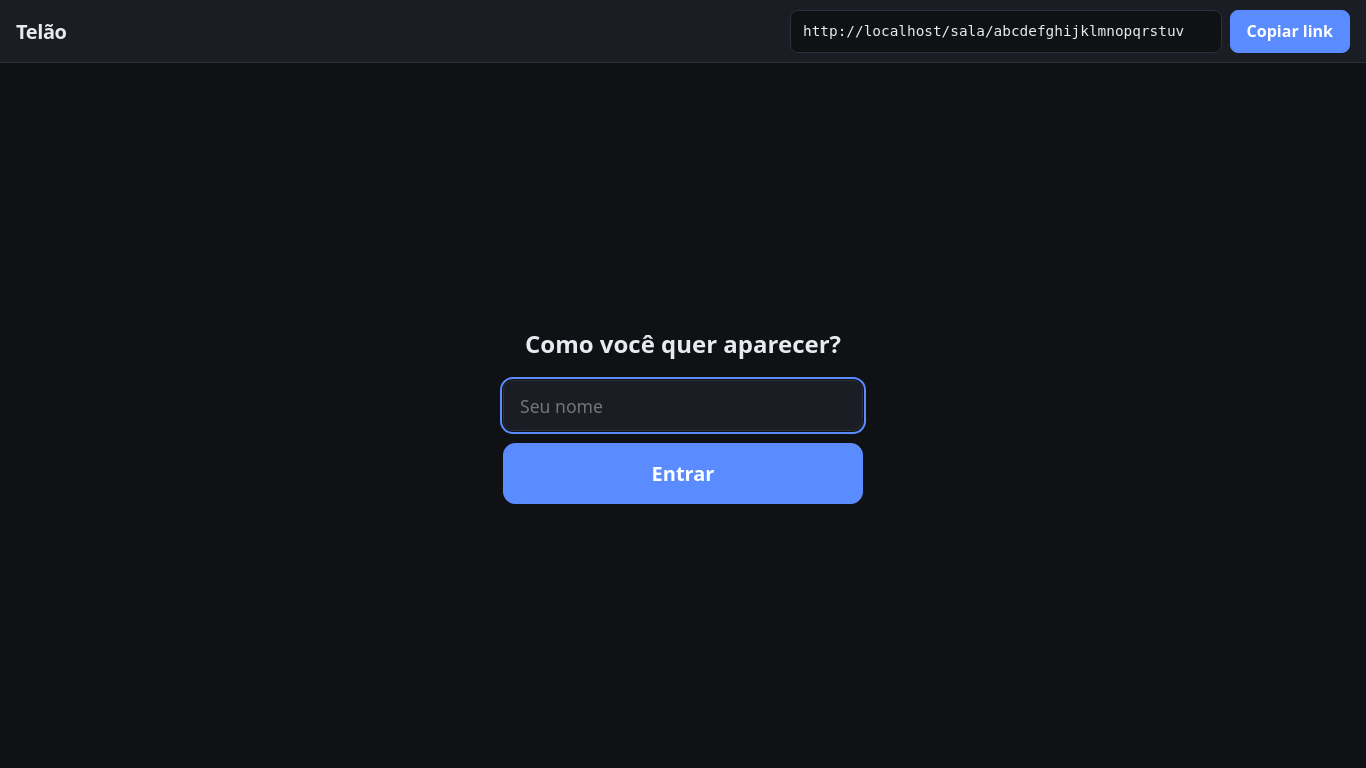
Test: Conversar por voz › entra com o microfone desligado, sem pedir permissão
The image size is (1366, 768).
Type "Ana" into the field labelled "Seu nome" at (683, 406), box [503, 380, 863, 432]
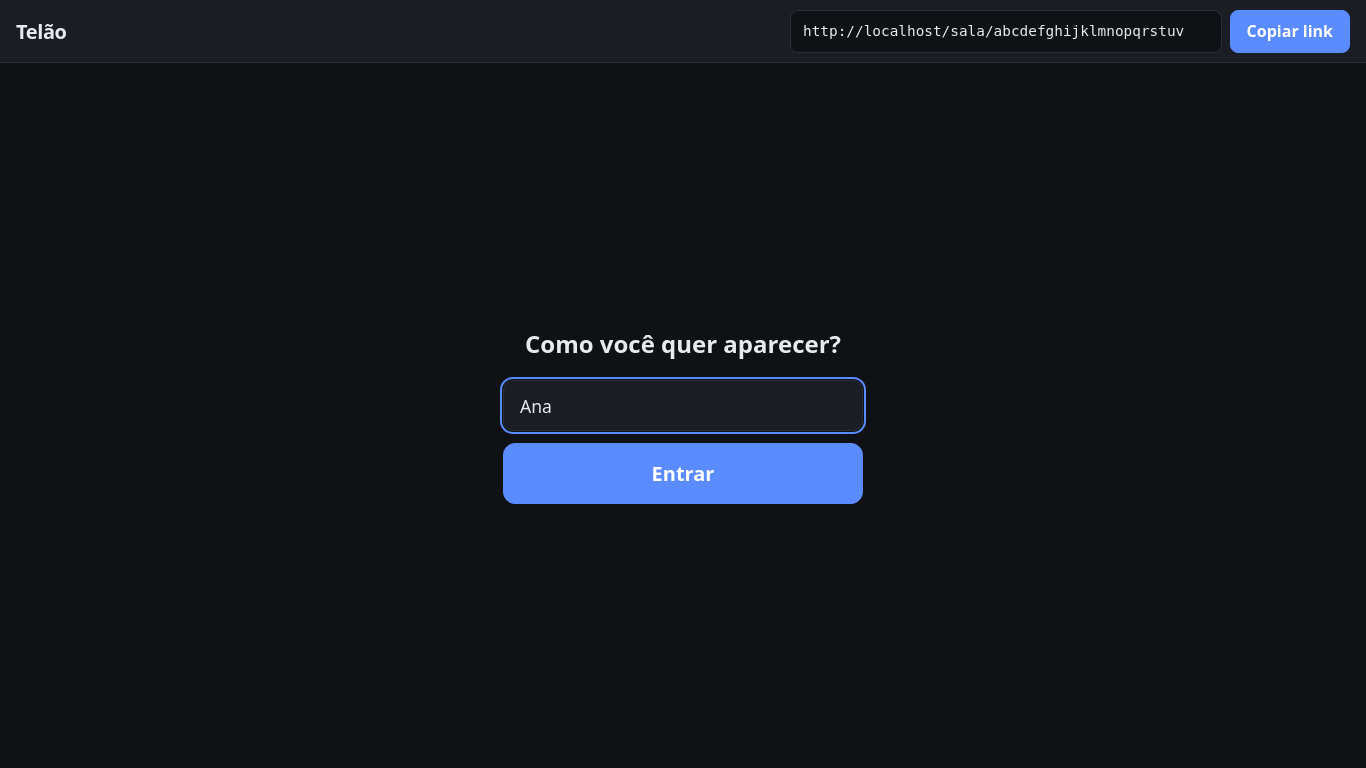
Click the button "Entrar" at (683, 474), box [503, 444, 863, 504]
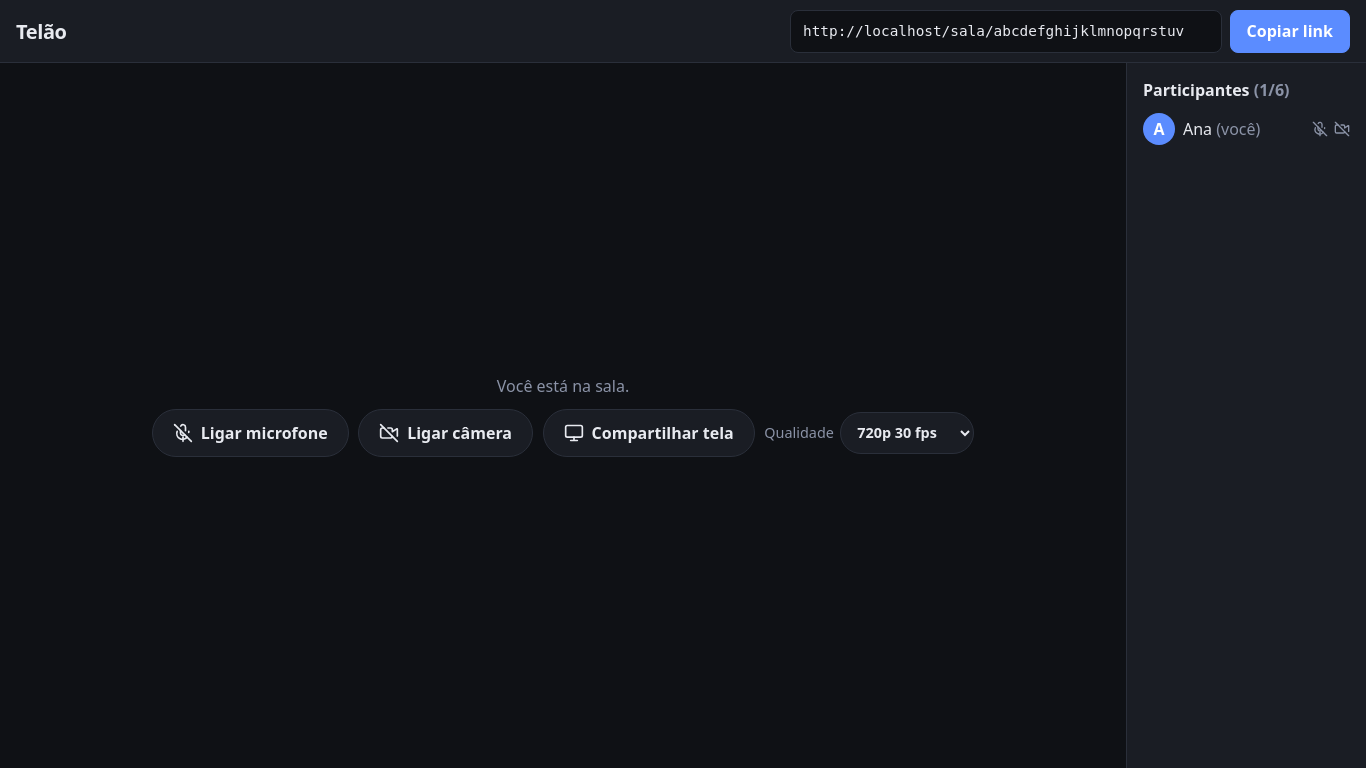
Now the text "Você está na sala." is shown, box [497, 375, 629, 397]
